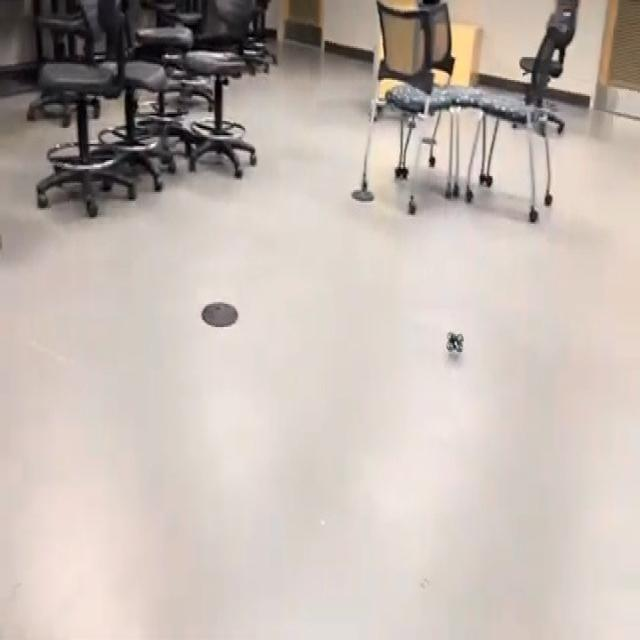drone: (436, 317, 470, 366)
